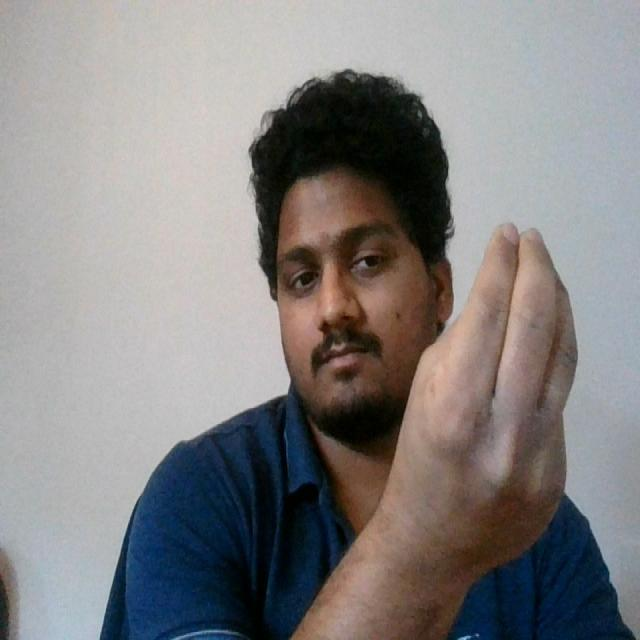Please: (377, 214, 586, 596)
